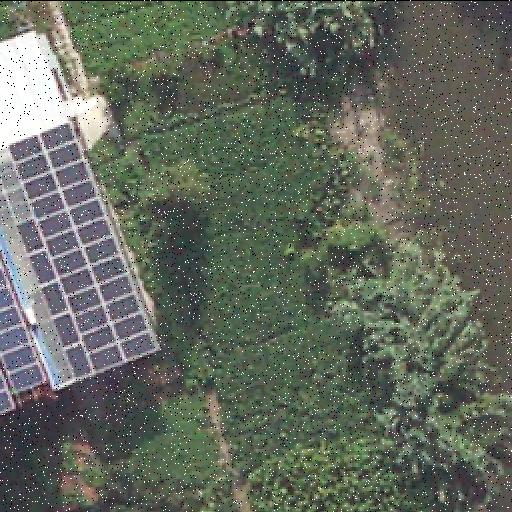solar-panel: (7, 121, 164, 381), (0, 252, 48, 390), (0, 354, 17, 414)
